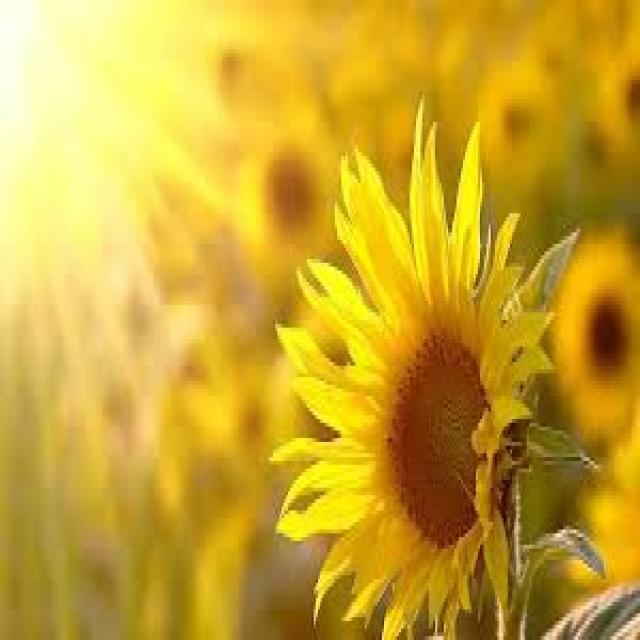sunflower: (267, 91, 553, 636), (550, 232, 638, 453), (241, 111, 340, 270), (482, 66, 555, 179)
